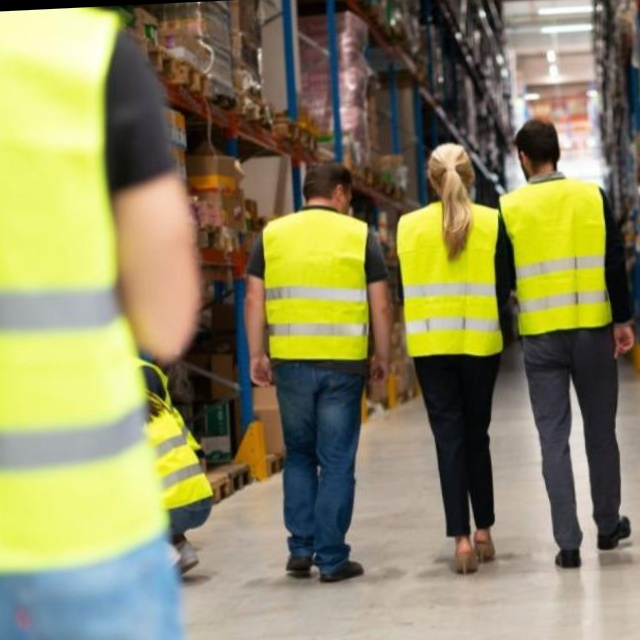Con_Chaleco: (389, 195, 512, 363), (258, 205, 380, 365), (497, 174, 615, 334)
